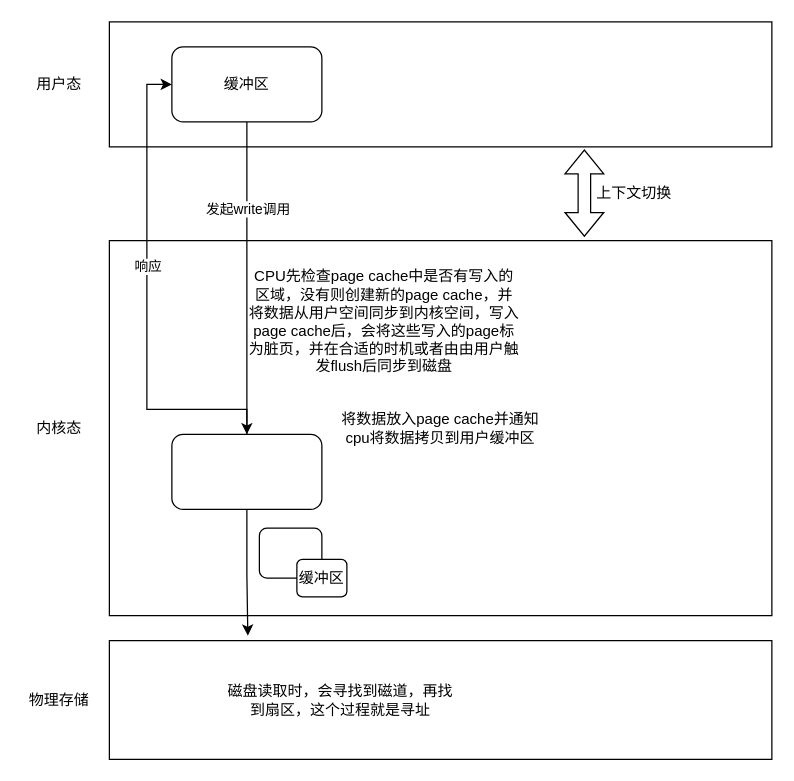
Image size: 794x781. Some labels were removed from this diagram. Here are the shapes that lost their labels. From the top down, the box of each, then its label:
(171, 433, 322, 509): Page Cache
(258, 527, 322, 578): DMA
